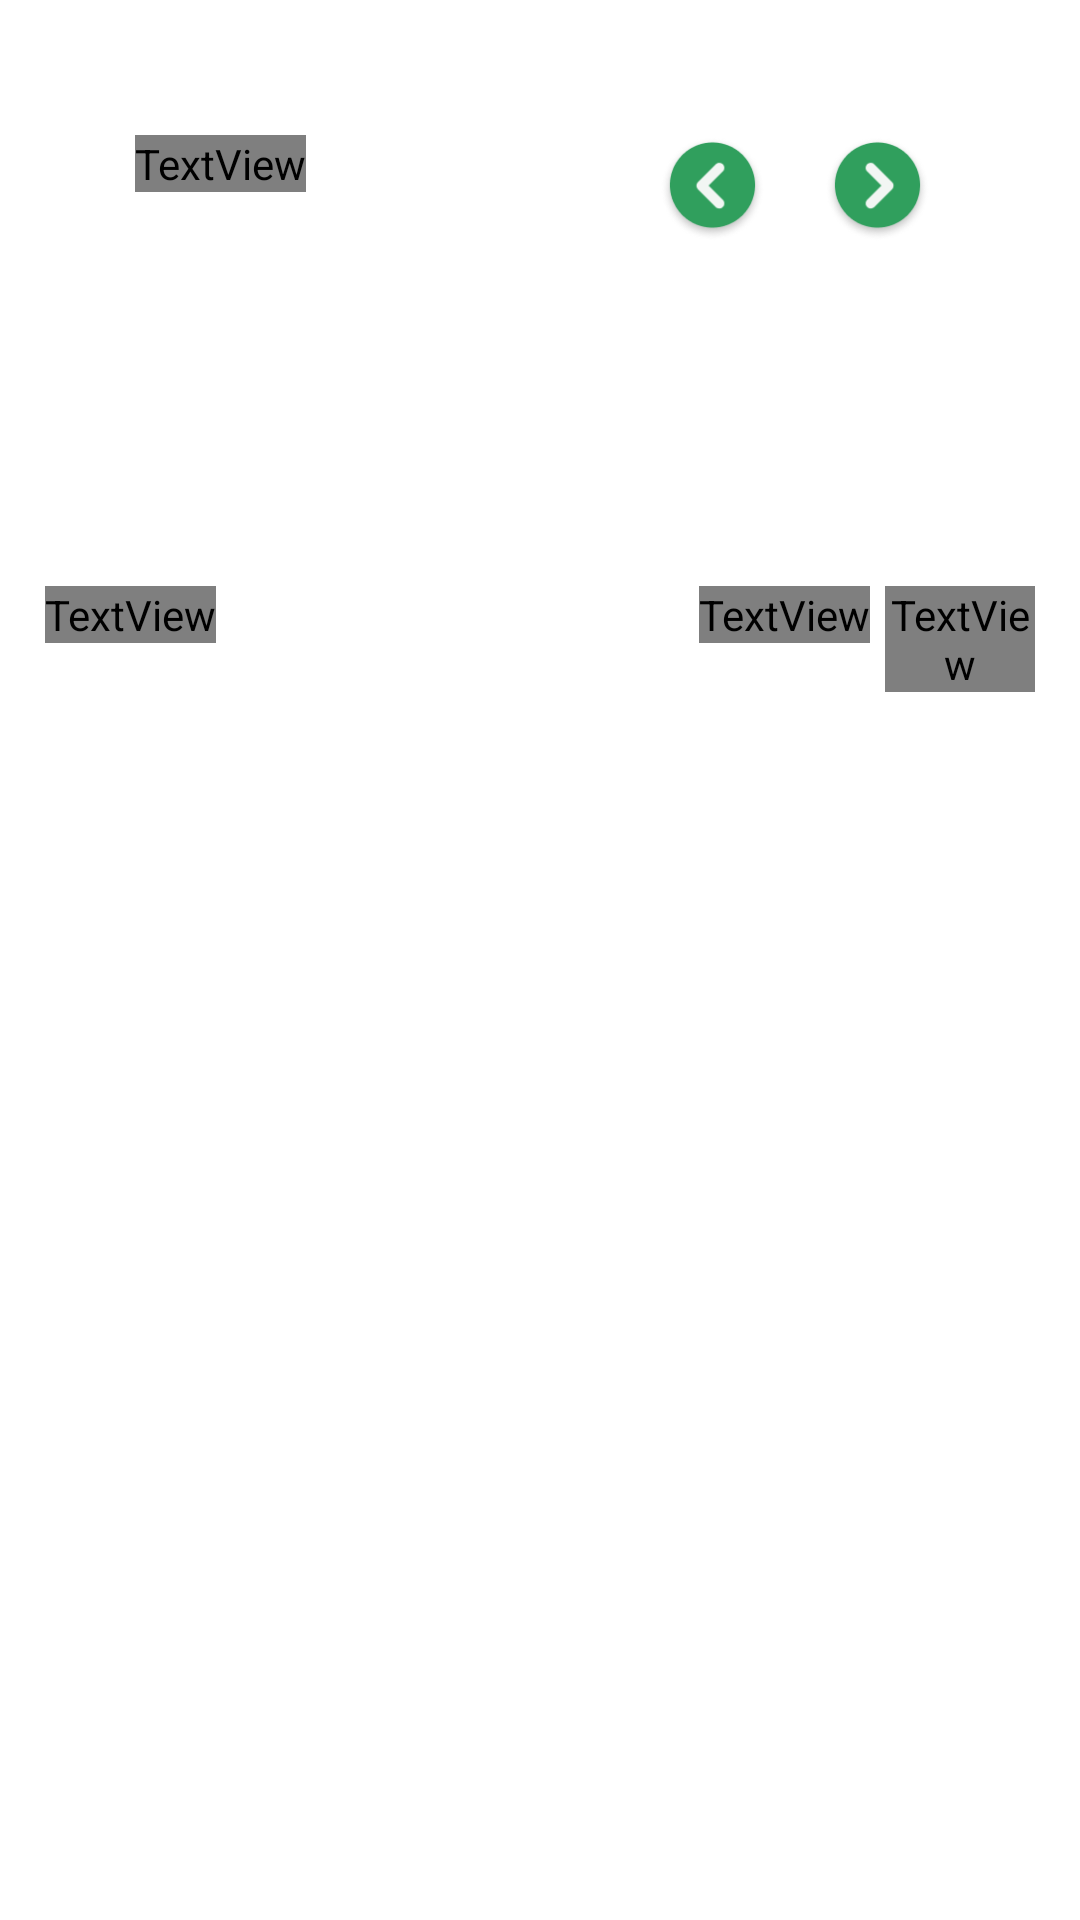

Named icons in this screenshot (1080×1920) and their centers, (x,y):
cal leftbutton: (712,187)
cal rightbutton: (877,187)
